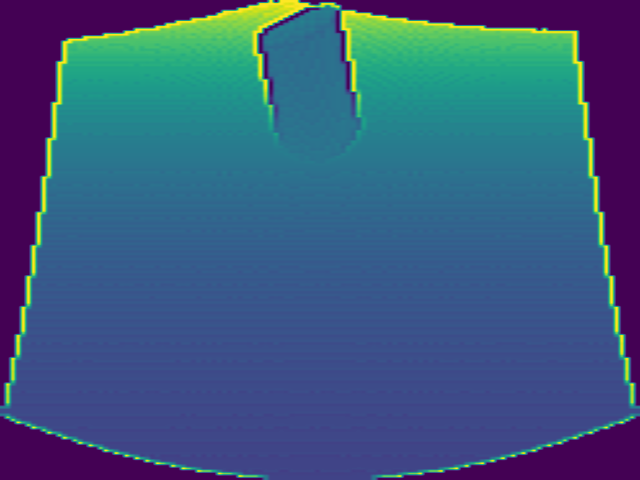cylinder: (252, 1, 364, 156)
